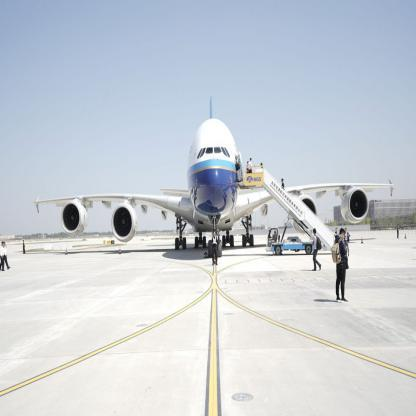CIV_Plane: (27, 98, 396, 262)
